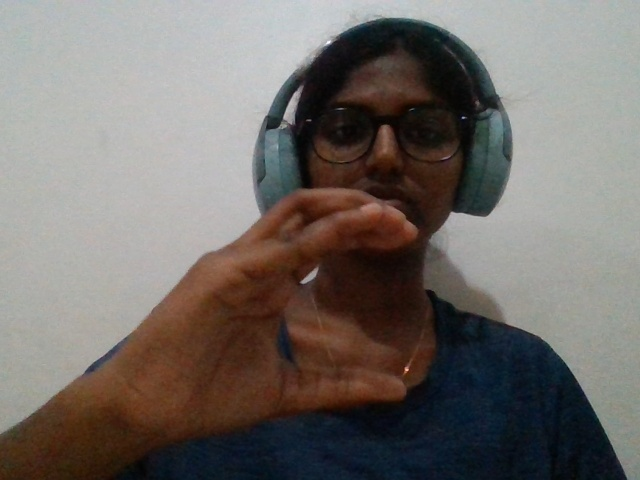C: (65, 164, 432, 469)
